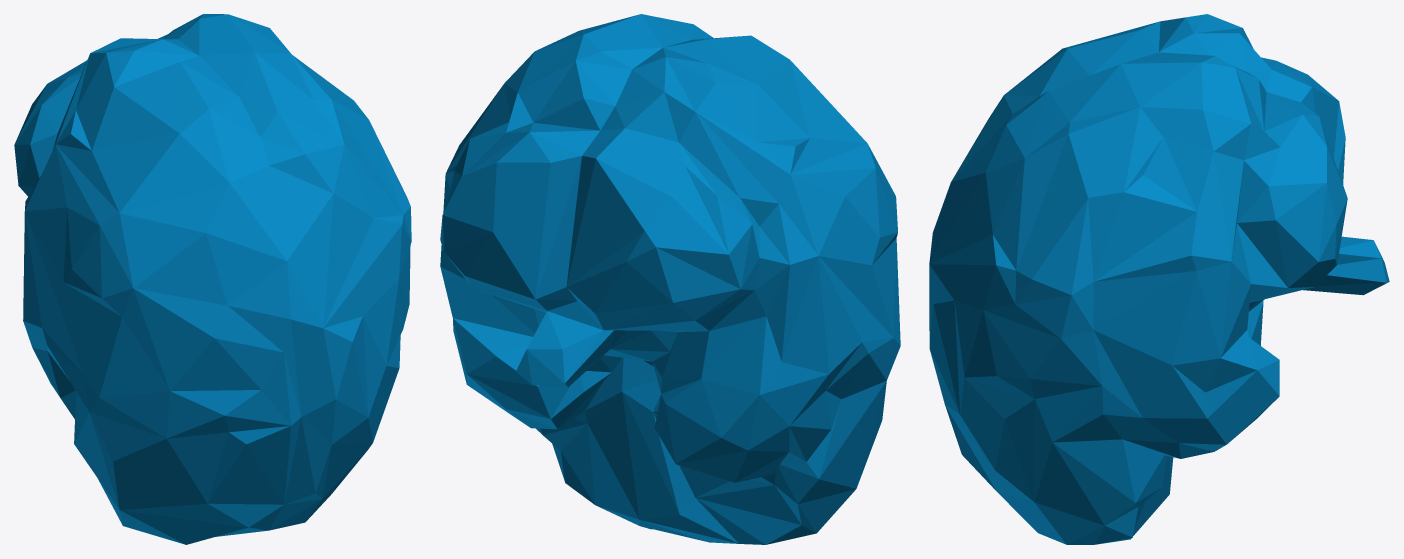
File: Brain.obj
3 views of the same model, side by side, from view 1: azimuth 30°, elevation 25°; view 2: azimuth 150°, elevation 25°; view 3: azimuth 270°, elevation 25° (orthographic). The views are drawn at different scales.
Visible parts, largest first — view 1: Object.1; view 2: Object.1; view 3: Object.1.
Boxes of the visible parts, x1=… form: Object.1: x1=14, y1=14, x2=411, y2=544; Object.1: x1=440, y1=14, x2=900, y2=544; Object.1: x1=929, y1=14, x2=1389, y2=544.
Bounding box in the file's own units: 753 × 990 × 854.
